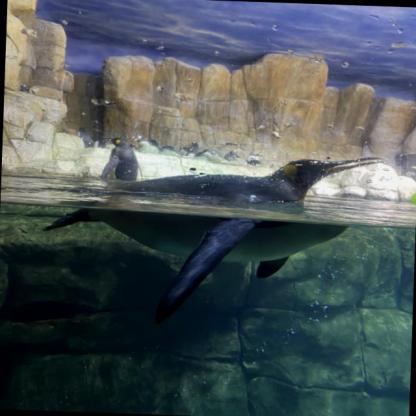penguin: (40, 145, 382, 331), (102, 136, 140, 182), (75, 126, 95, 147), (185, 140, 200, 158)
